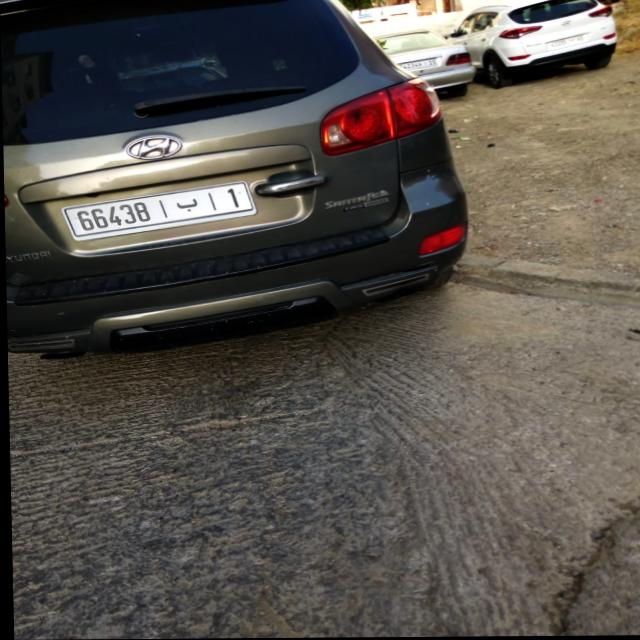License-Plate: (62, 182, 255, 241)
